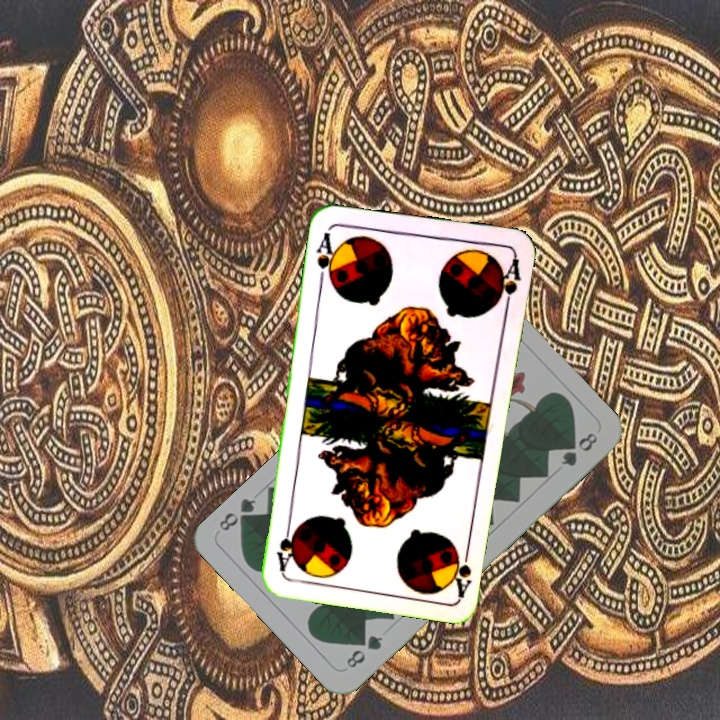G8: (342, 630, 386, 671)
SA: (312, 225, 341, 286), (451, 539, 475, 599)
